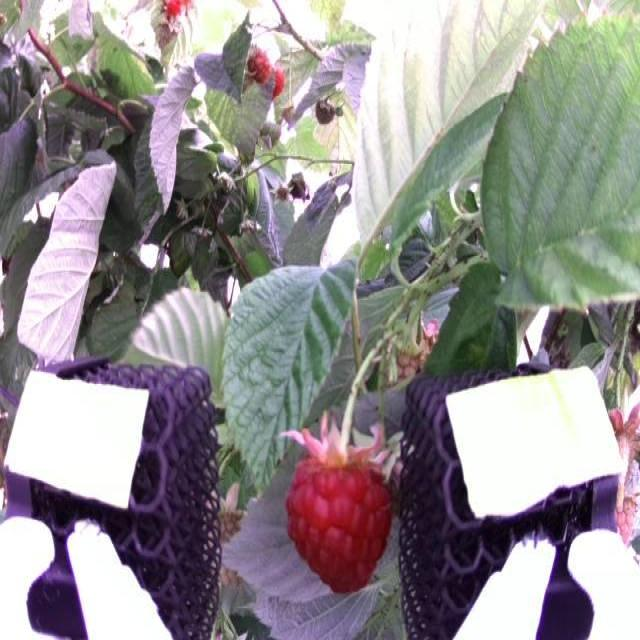Riped berries: (281, 420, 395, 591), (244, 47, 277, 88), (267, 61, 293, 100), (160, 0, 192, 21)
